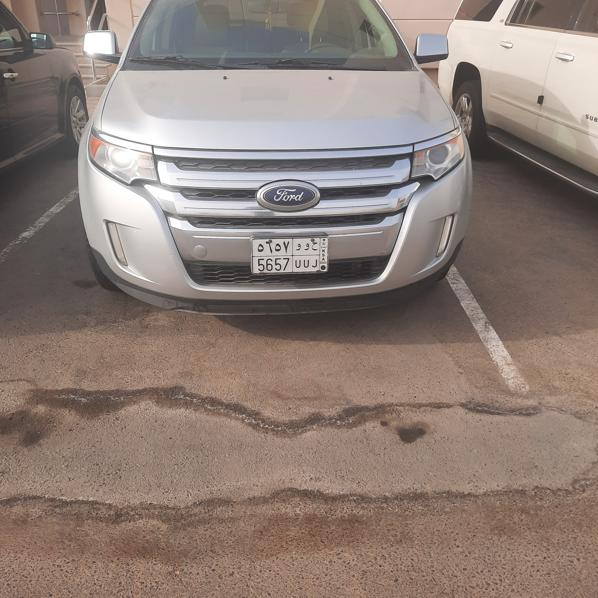numberplate: (252, 235, 327, 273)
